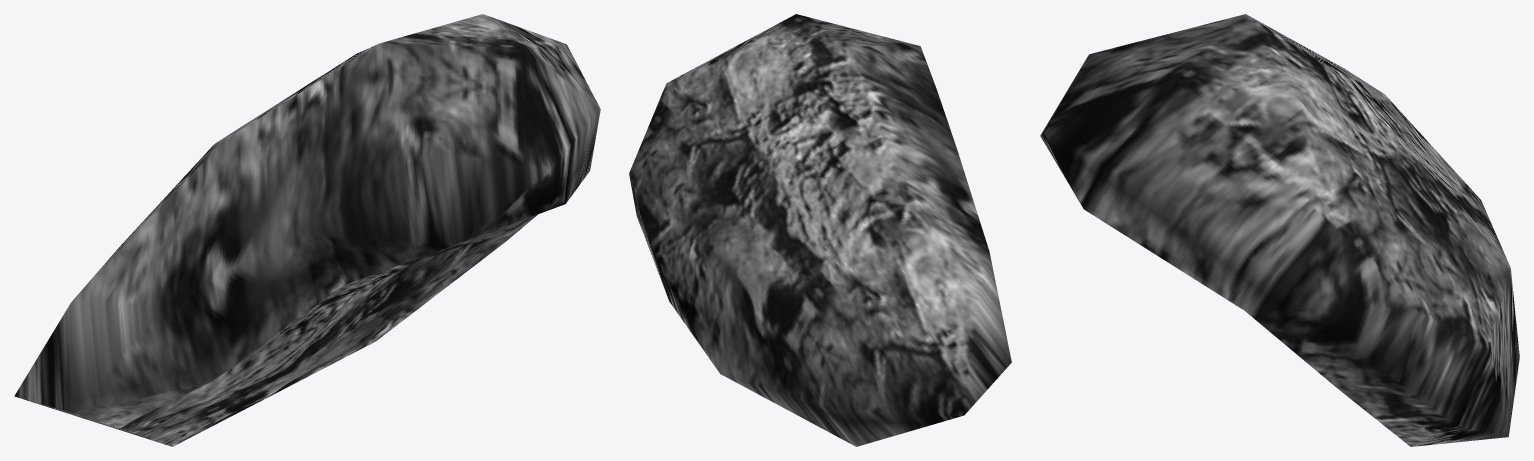
File: Stone03.obj
3 views of the same model, side by side, from view 1: azimuth 30°, elevation 25°; view 2: azimuth 150°, elevation 25°; view 3: azimuth 270°, elevation 25° (orthographic). The views are drawn at different scales.
Parts seen in each view (by area): view 1: Mesh_0; view 2: Mesh_0; view 3: Mesh_0.
Part boxes in pixels (x1,y1,x2,y2): Mesh_0: [14, 14, 600, 446]; Mesh_0: [629, 14, 1011, 446]; Mesh_0: [1040, 14, 1519, 446].
Bounding box in the file's own units: 2.31 × 1.95 × 1.78.
Materials: 1 (1 with a texture image).
